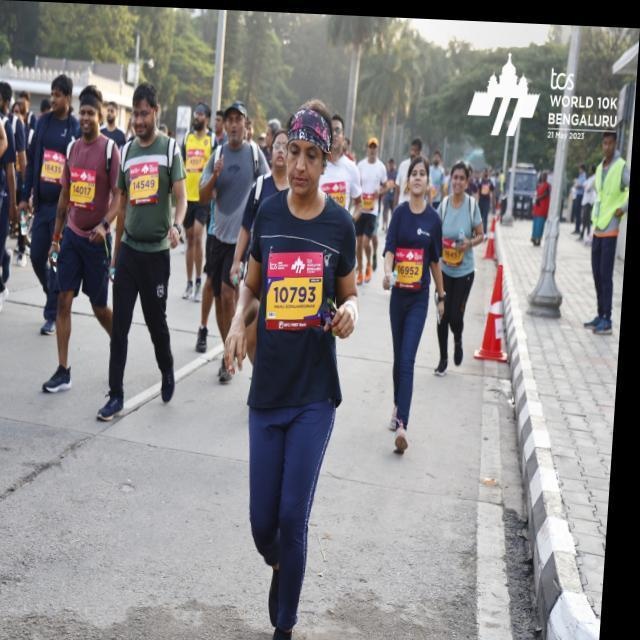dorsal: (268, 250, 329, 324), (397, 244, 428, 288), (130, 162, 161, 204), (71, 170, 99, 205)
